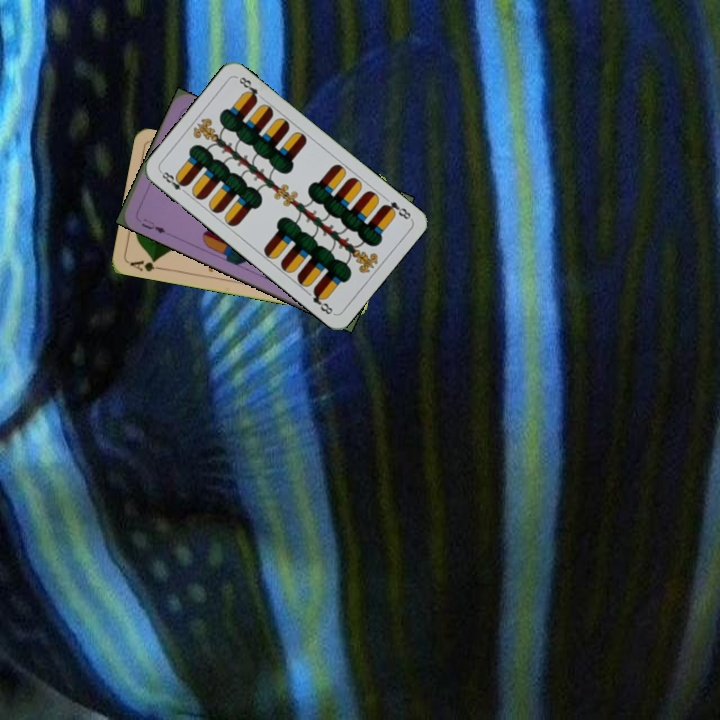E8: (157, 167, 190, 197), (378, 197, 415, 222)
EU: (133, 214, 168, 236)
GA: (126, 255, 166, 274)
